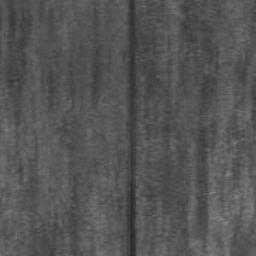Scratches: (127, 0, 136, 256)
